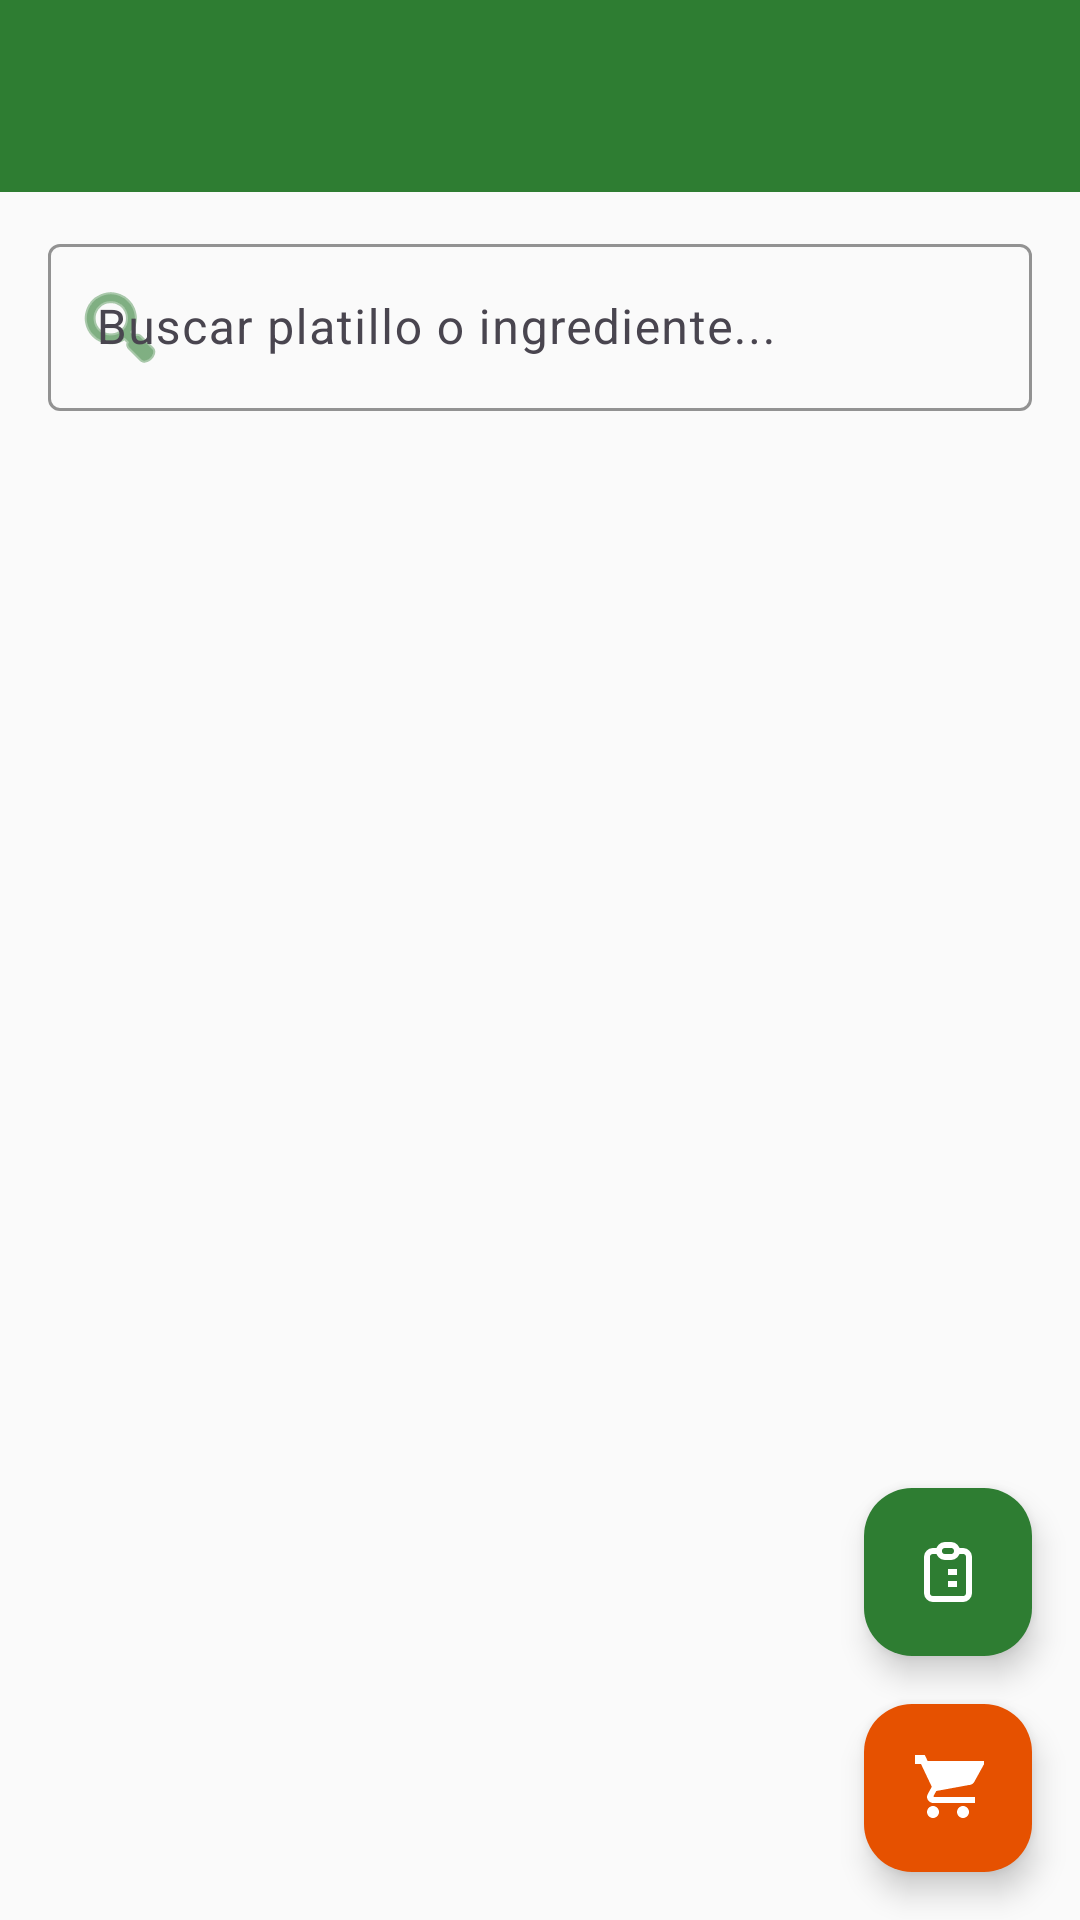

Icons on this 1080×1920 Android screen, each with the point to tap as (x,y):
Mis órdenes: (948,1572)
Ver carrito: (948,1788)
